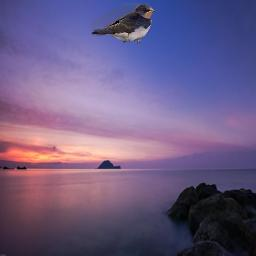Swallow: (91, 3, 156, 44)
